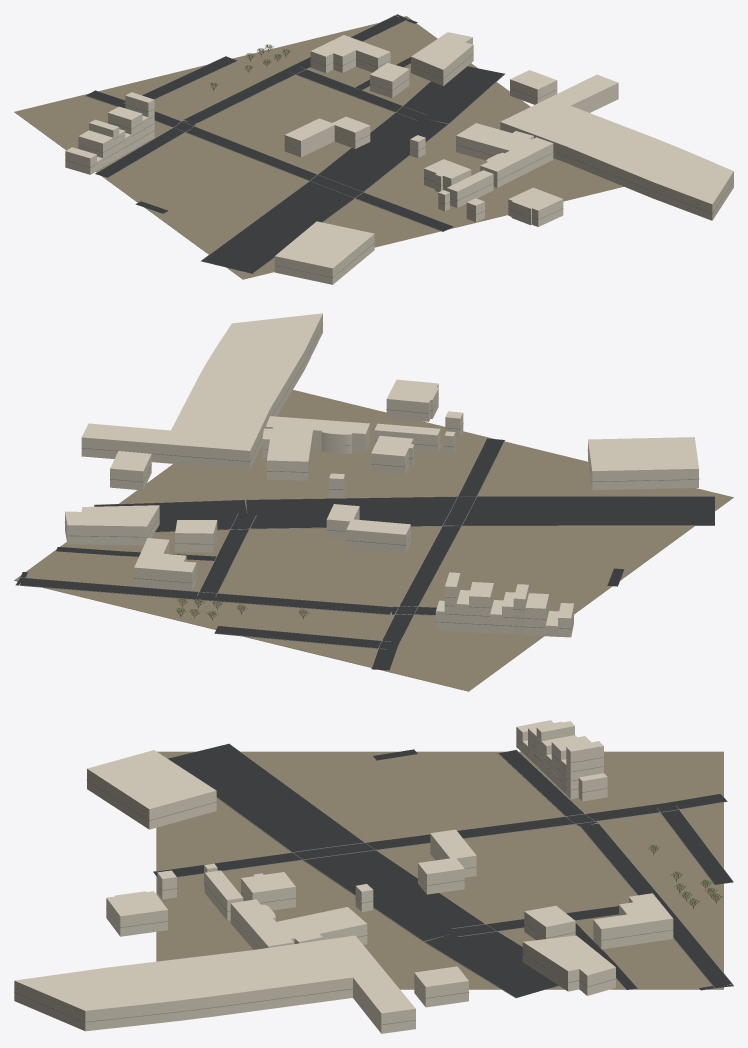
File: street_ba_cu.glb
3 views of the same model, one above another, from view 1: azimuth 30°, elevation 25°; view 2: azimuth 150°, elevation 25°; view 3: azimuth 270°, elevation 25° (orthographic). The views are drawn at different scales.
Parts seen in each view (by area): view 1: street_ba_cu; view 2: street_ba_cu; view 3: street_ba_cu.
Boxes of the visible parts, bbox=[...] form: street_ba_cu: bbox=[14, 14, 733, 284]; street_ba_cu: bbox=[14, 313, 733, 691]; street_ba_cu: bbox=[14, 720, 733, 1033].
Size of the model in its own units: 244 by 18.5 by 252.
